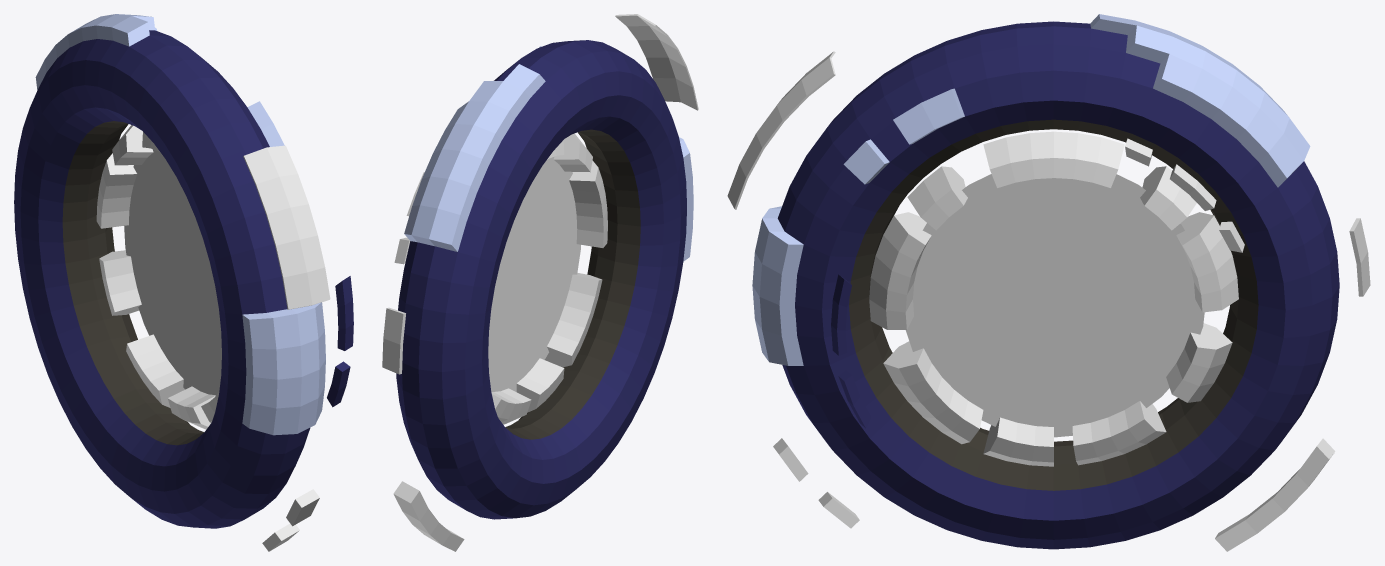
The model's file is MegaBoost.fbx.
3 views of the same model, side by side, from view 1: azimuth 30°, elevation 25°; view 2: azimuth 150°, elevation 25°; view 3: azimuth 270°, elevation 25° (orthographic). The views are drawn at different scales.
Parts seen in each view (by area): view 1: m_MegaBoost; view 2: m_MegaBoost; view 3: m_MegaBoost.
Boxes of the visible parts, bbox=[...] form: m_MegaBoost: bbox=[14, 14, 353, 551]; m_MegaBoost: bbox=[382, 14, 698, 551]; m_MegaBoost: bbox=[727, 14, 1370, 551].
Bounding box in the file's own units: 220 × 753 × 832.
